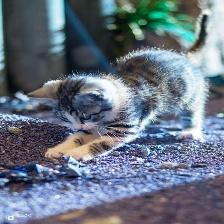kedo: (31, 11, 209, 161)
